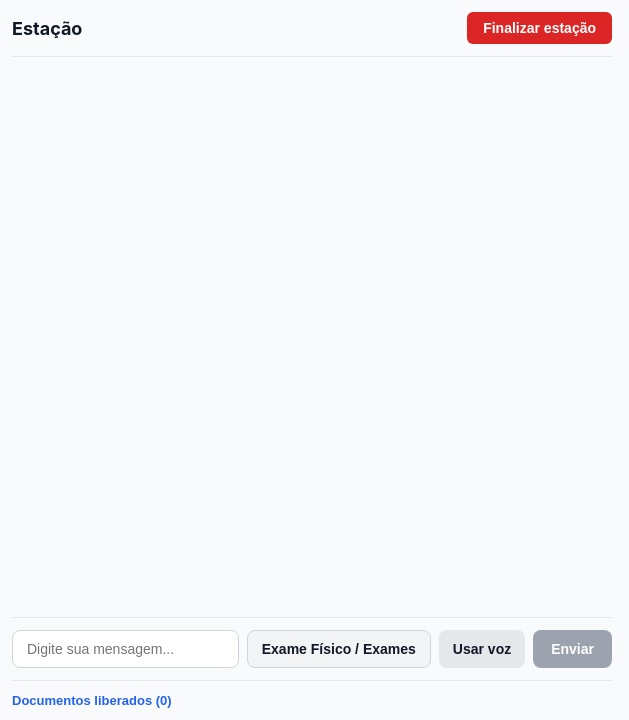
Test: StationScreen › falls back to text for the session when microphone permission is denied
Click the button with test id "voice-button": x=482, y=649 439,630 -> 525,668
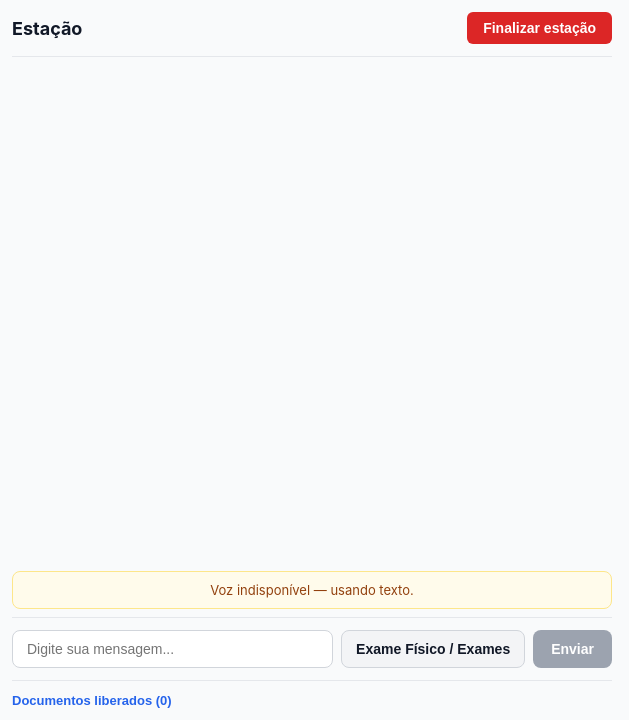
Check: the field with test id "message-input" is enabled, box 12,630 -> 333,668
Check: the message with test id "voice-fallback" reads "Voz indisponível — usando texto.", box 210,582 -> 414,598
Check: the button with test id "voice-button" is gone
